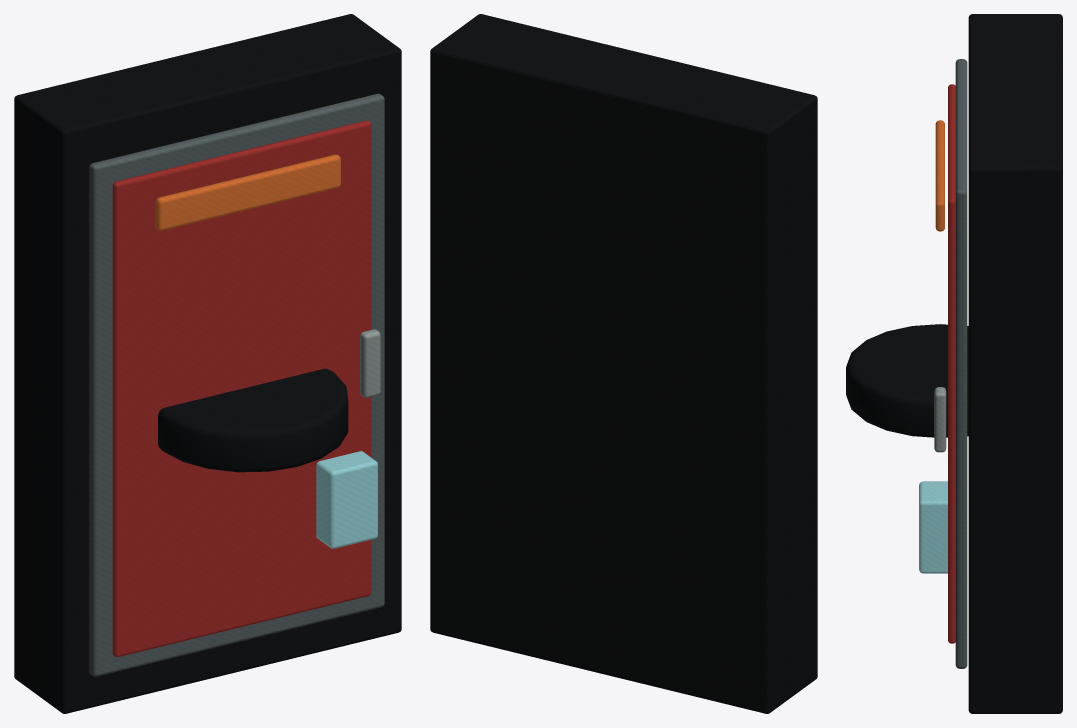
Rendered from WallHydrantCabinet.glb.
The picture shows the model from 3 angles, left to right: view 1: azimuth 30°, elevation 25°; view 2: azimuth 150°, elevation 25°; view 3: azimuth 270°, elevation 25°; orthographic projection. The views are drawn at different scales.
Parts seen in each view (by area): view 1: WallHydrantCabinet_Mesh; view 2: WallHydrantCabinet_Mesh; view 3: WallHydrantCabinet_Mesh.
Boxes of the visible parts, x1,y1,x2,y2 form: WallHydrantCabinet_Mesh: (14,14,401,713); WallHydrantCabinet_Mesh: (430,14,817,713); WallHydrantCabinet_Mesh: (846,14,1062,713).
Bounding box in the file's own units: 0.78 × 1.28 × 0.46.
Materials: 6 (6 with a texture image).
